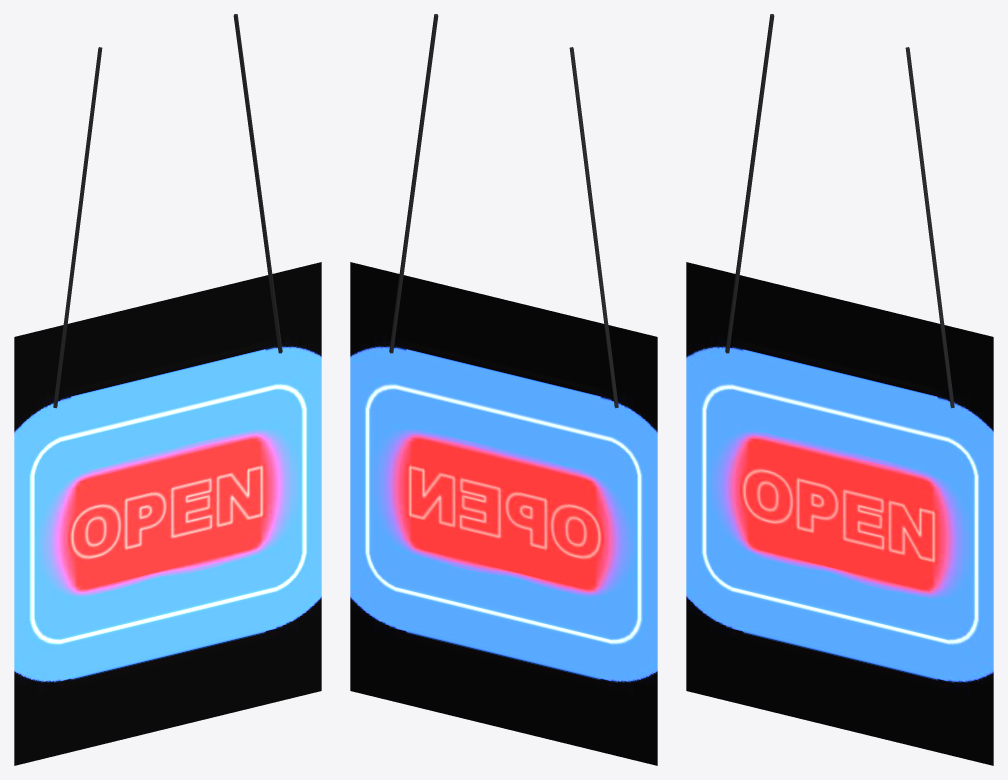
The model's file is neon_open.glb.
3 views of the same model, side by side, from view 1: azimuth 30°, elevation 25°; view 2: azimuth 150°, elevation 25°; view 3: azimuth 330°, elevation 25° (orthographic).
Parts seen in each view (by area): view 1: body; view 2: body; view 3: body.
Boxes of the visible parts, x1,y1,x2,y2 form: body: (14, 14, 321, 765); body: (350, 14, 657, 765); body: (686, 14, 993, 765).
Bounding box in the file's own units: 0.6 × 1.3 × 0.008.
Materials: 2 (1 with a texture image).
